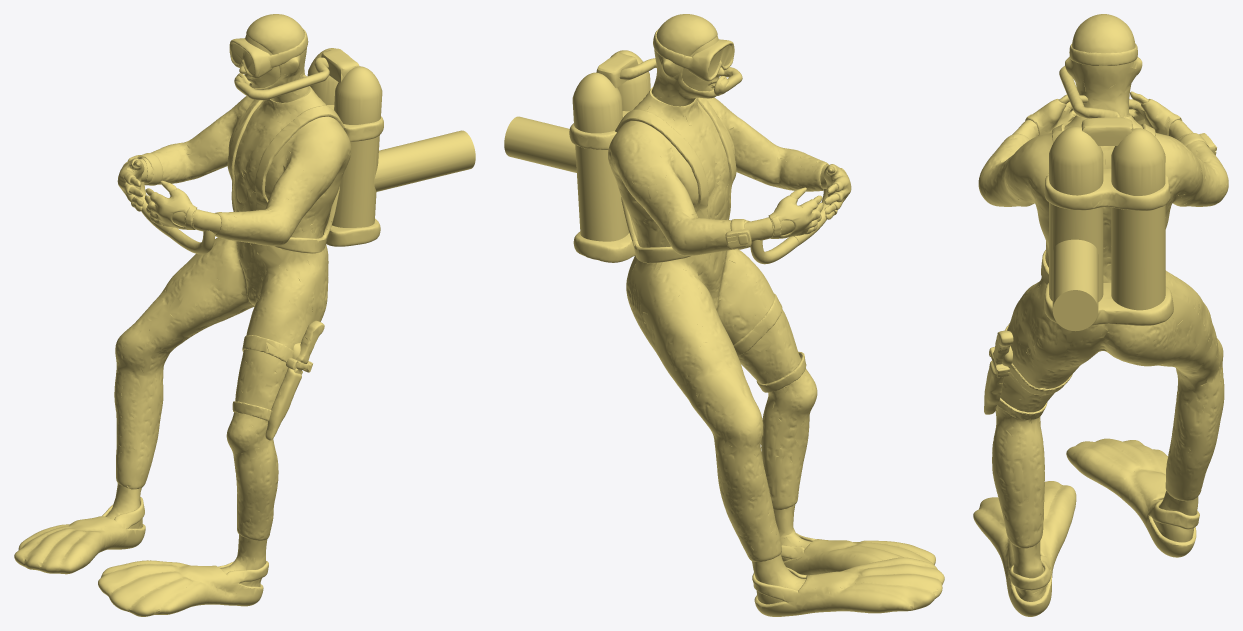
The model's file is dalgiç.glb.
3 views of the same model, side by side, from view 1: azimuth 30°, elevation 25°; view 2: azimuth 150°, elevation 25°; view 3: azimuth 270°, elevation 25° (orthographic). The views are drawn at different scales.
Parts seen in each view (by area): view 1: Renderer Node; view 2: Renderer Node; view 3: Renderer Node.
Boxes of the visible parts, bbox=[...] form: Renderer Node: bbox=[14, 14, 475, 616]; Renderer Node: bbox=[504, 14, 944, 616]; Renderer Node: bbox=[973, 14, 1228, 616].
Bounding box in the file's own units: 24.56 × 30.31 × 11.17.
